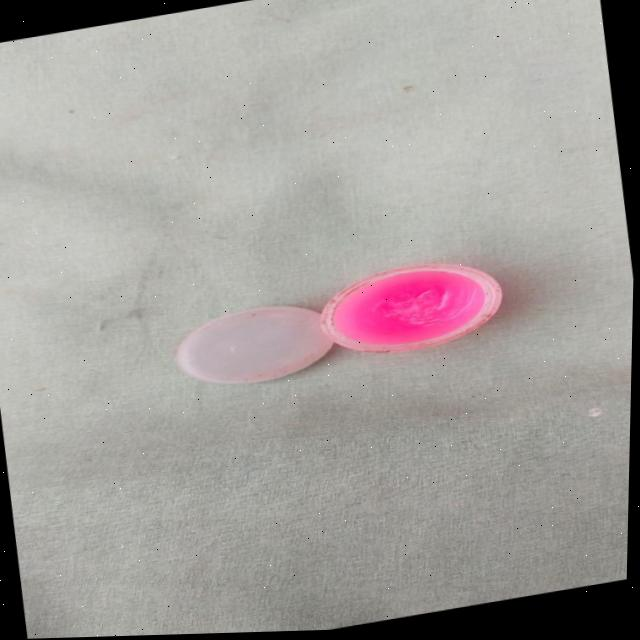lip balm: (140, 244, 538, 414)
